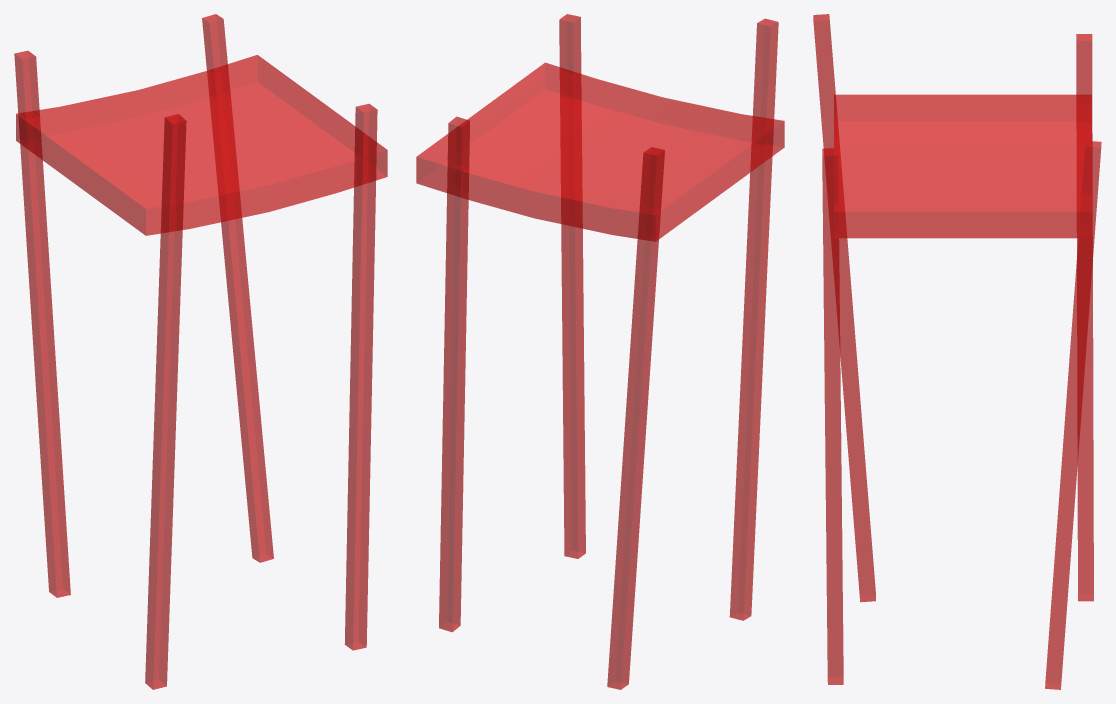
File: SM_Bld_Rickety_Dock_Platform_01_Collision.fbx
The picture shows the model from 3 angles, left to right: view 1: azimuth 30°, elevation 25°; view 2: azimuth 150°, elevation 25°; view 3: azimuth 270°, elevation 25°; orthographic projection.
Visible parts, largest first — view 1: SM_Bld_Rickety_Dock_Platform_01_Collision; view 2: SM_Bld_Rickety_Dock_Platform_01_Collision; view 3: SM_Bld_Rickety_Dock_Platform_01_Collision.
Part boxes in pixels (x1=…): SM_Bld_Rickety_Dock_Platform_01_Collision: x1=14, y1=14, x2=387, y2=689; SM_Bld_Rickety_Dock_Platform_01_Collision: x1=416, y1=14, x2=784, y2=689; SM_Bld_Rickety_Dock_Platform_01_Collision: x1=813, y1=14, x2=1101, y2=689.
Bounding box in the file's own units: 373 × 858 × 386.
